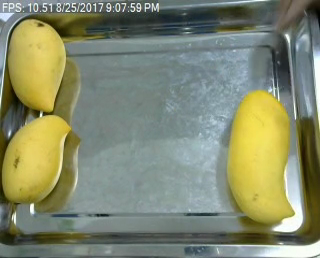Mango: (223, 90, 299, 226), (2, 114, 72, 203), (7, 17, 68, 111)
